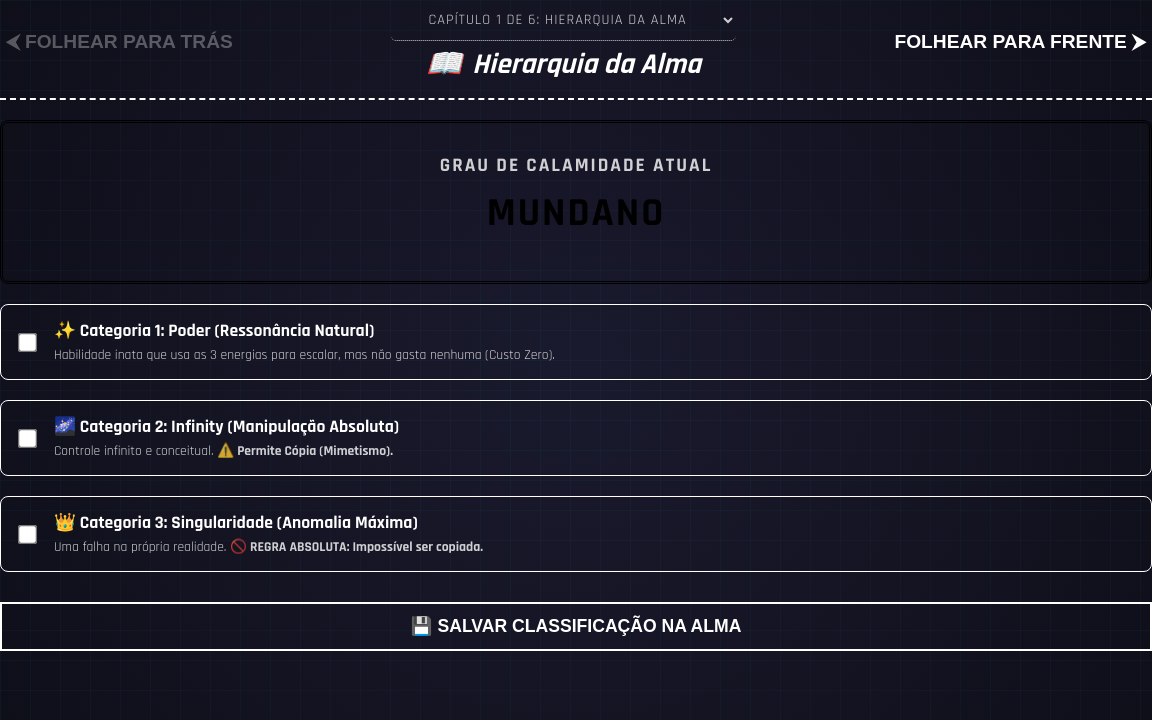
ClassificacaoPanel — mUnico Crescente (Por Turno): turnos x taxa, clamp e reset › mUnico Atual cresce SEM teto (diferente da Fadiga, que clampa em 100%) conforme os turnos se acumulam
Select "CAPÍTULO 2 DE 6: MARCADORES & ADAPTAÇÃO" in the dropdown at {"x": 564, "y": 20}, box [391,0,736,41]
(page scrolled)
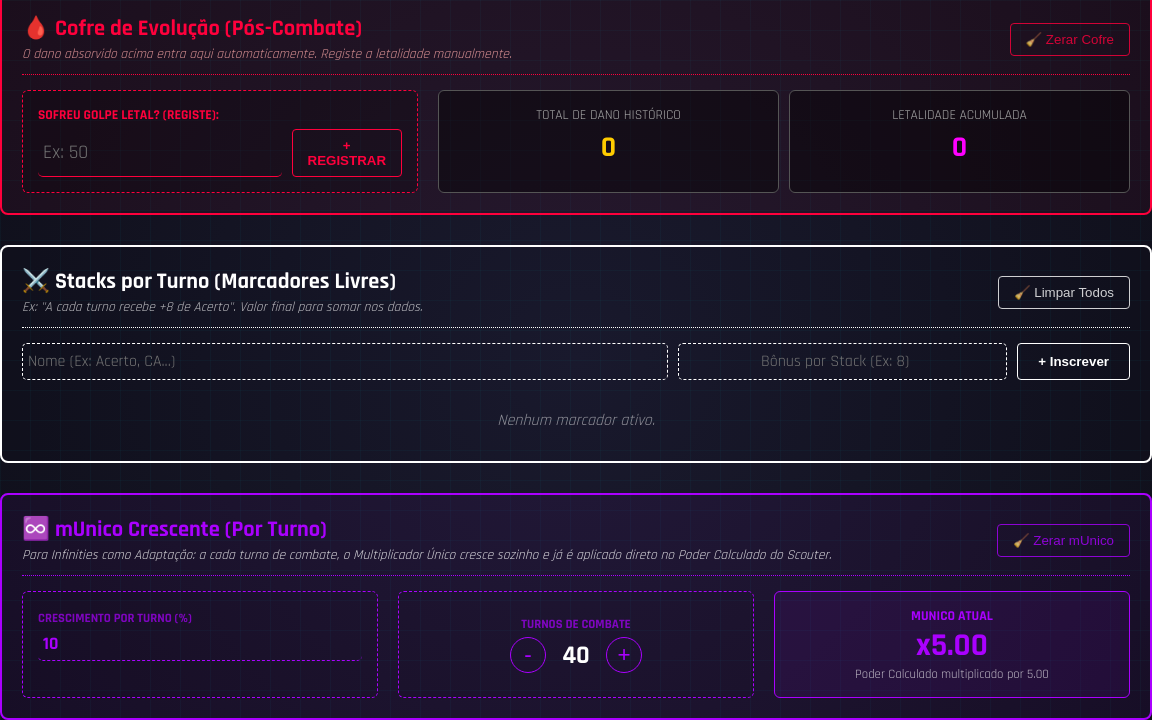
Expected: the text "x5.00" is shown, [916,625,988,666]
